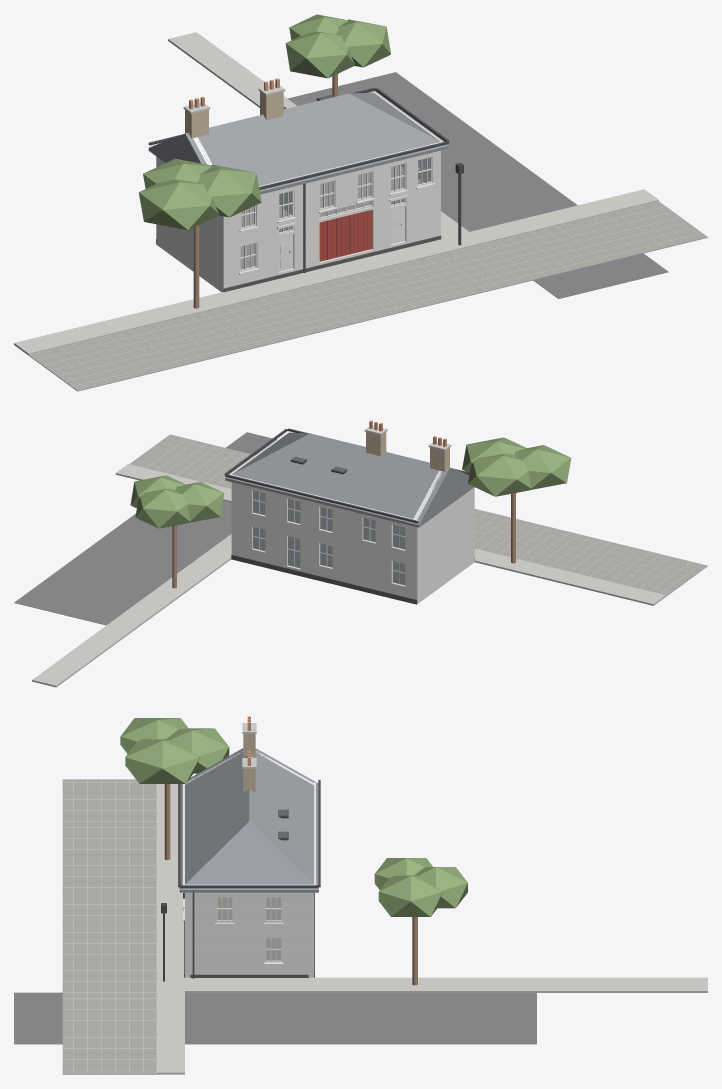
The model's file is clay-mews-coach-house-clay-v001.glb.
3 views of the same model, one above another, from view 1: azimuth 30°, elevation 25°; view 2: azimuth 150°, elevation 25°; view 3: azimuth 270°, elevation 25° (orthographic). The views are drawn at different scales.
Visible parts, largest first — view 1: CLAY_SETTS, CLAY_WALL, CLAY_ROOF, CLAY_ASPHALT, CLAY_PAVING, CLAY_PLANTING, CLAY_JOINT, CLAY_TRIM, CLAY_HARDWARE, CLAY_DOOR, CLAY_GLASS, CLAY_FLOOR (+4 smaller); view 2: CLAY_WALL, CLAY_ROOF, CLAY_ASPHALT, CLAY_SETTS, CLAY_PLANTING, CLAY_PAVING, CLAY_TRIM, CLAY_GLASS, CLAY_JOINT, CLAY_HARDWARE, CLAY_FOUNDATION, CLAY_BRICK (+1 smaller); view 3: CLAY_SETTS, CLAY_ASPHALT, CLAY_ROOF, CLAY_PAVING, CLAY_PLANTING, CLAY_WALL, CLAY_JOINT, CLAY_HARDWARE, CLAY_GLASS, CLAY_FLOOR, CLAY_TRIM, CLAY_TIMBER (+3 smaller).
Part boxes in pixels (x1=…): CLAY_SETTS: x1=27, y1=201, x2=707, y2=391; CLAY_WALL: x1=156, y1=137, x2=440, y2=292; CLAY_ROOF: x1=148, y1=92, x2=448, y2=194; CLAY_ASPHALT: x1=287, y1=72, x2=668, y2=298; CLAY_PAVING: x1=14, y1=32, x2=658, y2=354; CLAY_PLANTING: x1=138, y1=14, x2=390, y2=229; CLAY_JOINT: x1=30, y1=153, x2=700, y2=388; CLAY_TRIM: x1=239, y1=156, x2=435, y2=274; CLAY_HARDWARE: x1=148, y1=87, x2=463, y2=272; CLAY_DOOR: x1=319, y1=210, x2=371, y2=261; CLAY_GLASS: x1=240, y1=95, x2=430, y2=269; CLAY_FLOOR: x1=240, y1=165, x2=423, y2=269; CLAY_WALL: x1=231, y1=470, x2=474, y2=603; CLAY_ROOF: x1=225, y1=432, x2=474, y2=527; CLAY_ASPHALT: x1=14, y1=432, x2=276, y2=625; CLAY_SETTS: x1=129, y1=434, x2=707, y2=596; CLAY_PLANTING: x1=130, y1=437, x2=571, y2=528; CLAY_PAVING: x1=32, y1=464, x2=665, y2=687; CLAY_TRIM: x1=252, y1=490, x2=405, y2=585; CLAY_GLASS: x1=253, y1=456, x2=405, y2=585; CLAY_JOINT: x1=135, y1=438, x2=701, y2=593; CLAY_HARDWARE: x1=224, y1=428, x2=469, y2=523; CLAY_FOUNDATION: x1=231, y1=554, x2=474, y2=604; CLAY_BRICK: x1=366, y1=432, x2=449, y2=471; CLAY_SETTS: x1=62, y1=779, x2=160, y2=1074; CLAY_ASPHALT: x1=14, y1=992, x2=536, y2=1044; CLAY_ROOF: x1=179, y1=748, x2=318, y2=892; CLAY_PAVING: x1=157, y1=784, x2=707, y2=1074; CLAY_PLANTING: x1=120, y1=718, x2=467, y2=916; CLAY_WALL: x1=185, y1=751, x2=313, y2=977; CLAY_JOINT: x1=64, y1=780, x2=307, y2=1073; CLAY_HARDWARE: x1=161, y1=780, x2=320, y2=981; CLAY_GLASS: x1=217, y1=809, x2=287, y2=960; CLAY_FLOOR: x1=217, y1=897, x2=281, y2=960; CLAY_TRIM: x1=183, y1=892, x2=283, y2=965; CLAY_TIMBER: x1=164, y1=784, x2=417, y2=985.
Size of the model in its own units: 40 by 10.22 by 39.8.
